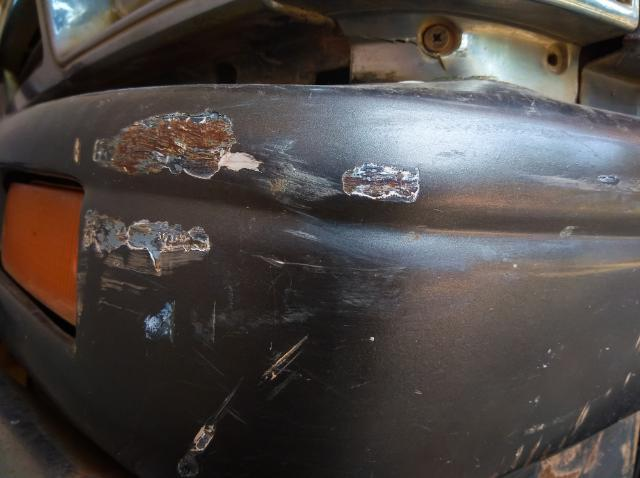crack: (344, 33, 446, 73)
dislocated part: (0, 0, 639, 478)
scratch: (77, 106, 435, 478), (526, 171, 640, 198)
